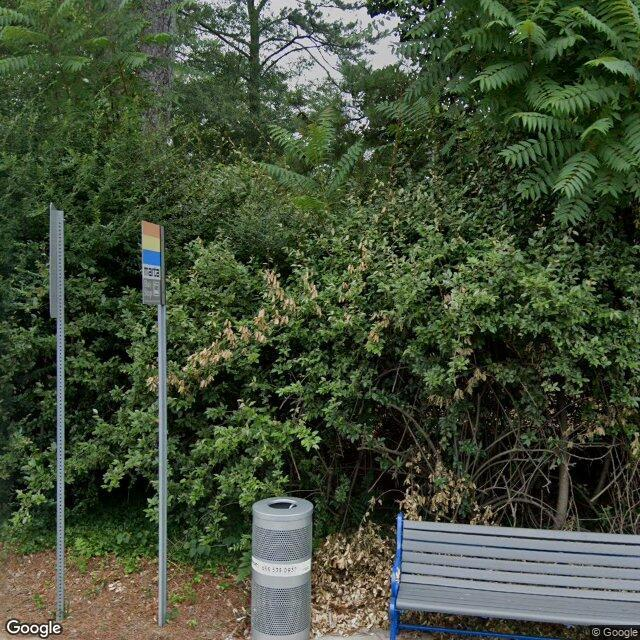seating: (391, 512, 640, 640)
trash_can: (250, 494, 314, 639)
